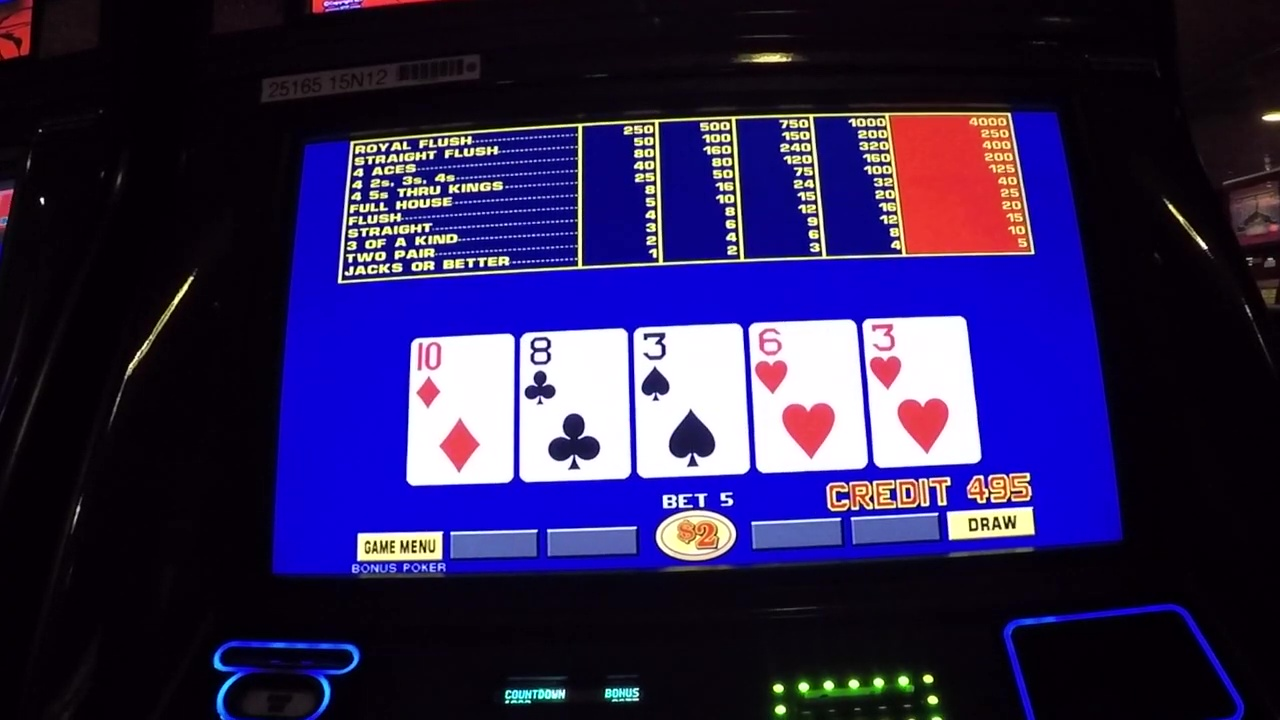C8: (523, 335, 627, 408)
DT: (414, 337, 509, 412)
H3: (869, 326, 965, 398)
H6: (754, 325, 856, 397)
S3: (638, 329, 746, 404)
